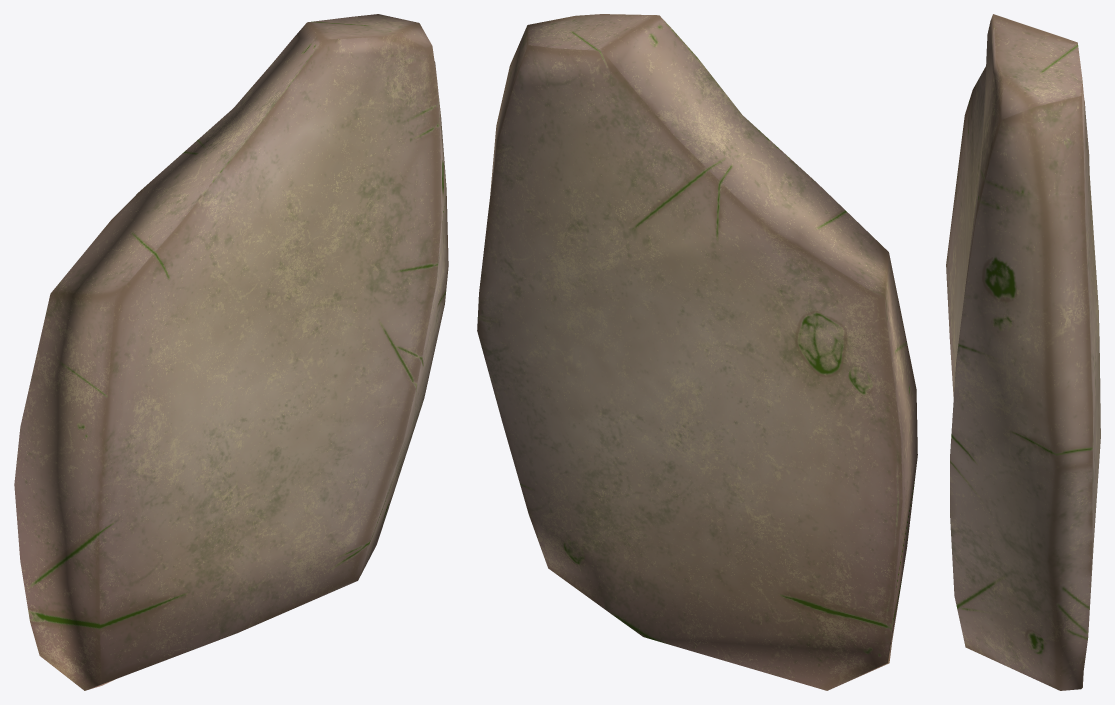
Rendered from Rune01_low_01.fbx.
3 views of the same model, side by side, from view 1: azimuth 30°, elevation 25°; view 2: azimuth 150°, elevation 25°; view 3: azimuth 270°, elevation 25° (orthographic). The views are drawn at different scales.
Parts seen in each view (by area): view 1: Rune_01_low_01; view 2: Rune_01_low_01; view 3: Rune_01_low_01.
Part boxes in pixels (x1,y1,x2,y2): Rune_01_low_01: (14, 14, 448, 690); Rune_01_low_01: (477, 14, 917, 690); Rune_01_low_01: (946, 14, 1100, 690).
Size of the model in its own units: 1.44 by 1.98 by 0.3906.
1 material, 1 textured.
